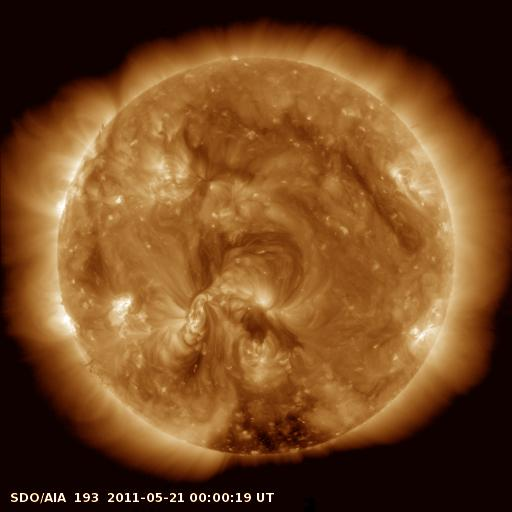coronal_hole: (208, 396, 335, 457)
